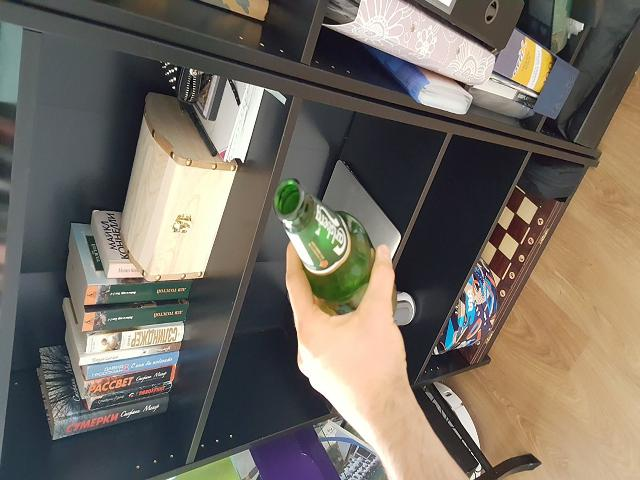beer: (274, 178, 397, 324)
